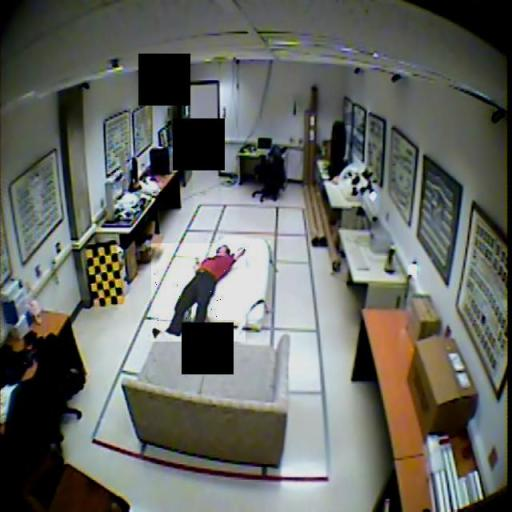Fall: (151, 243, 246, 342)
